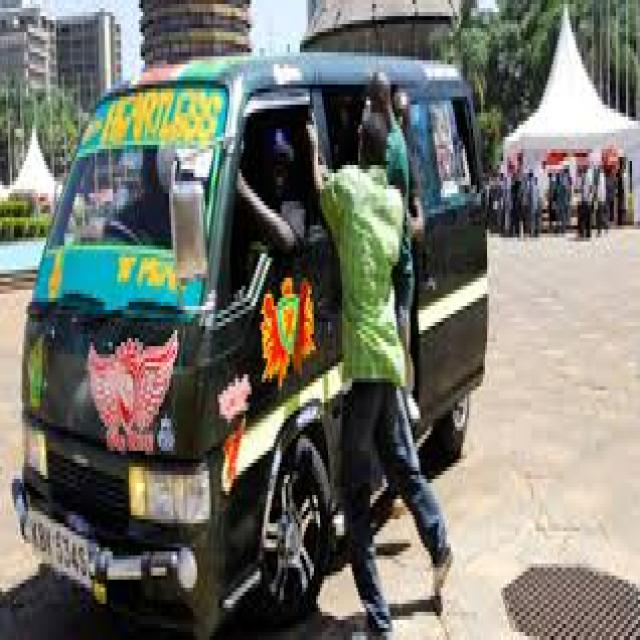matatu: (4, 27, 520, 640)
